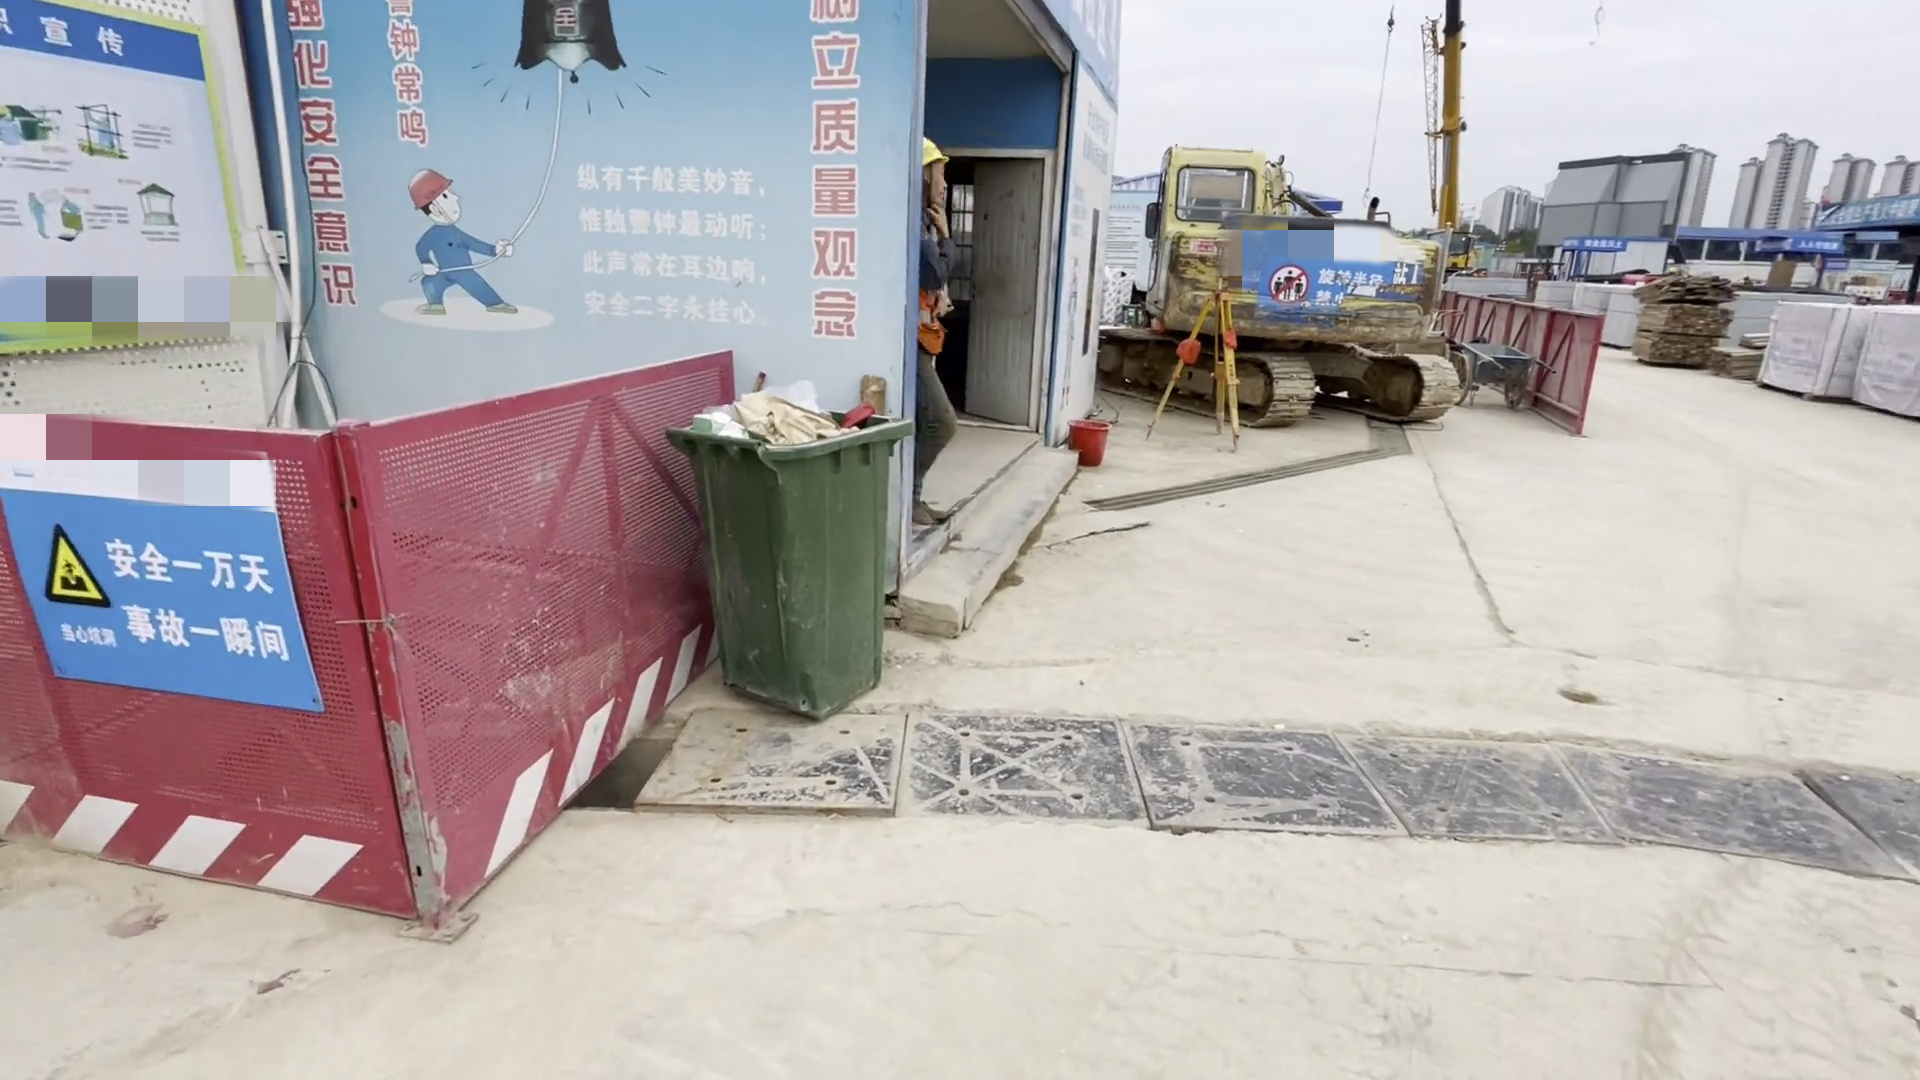person: (916, 131, 971, 561)
slogan: (15, 466, 319, 722), (1256, 244, 1378, 303), (1802, 199, 1912, 231)
wood: (1641, 281, 1730, 368)
